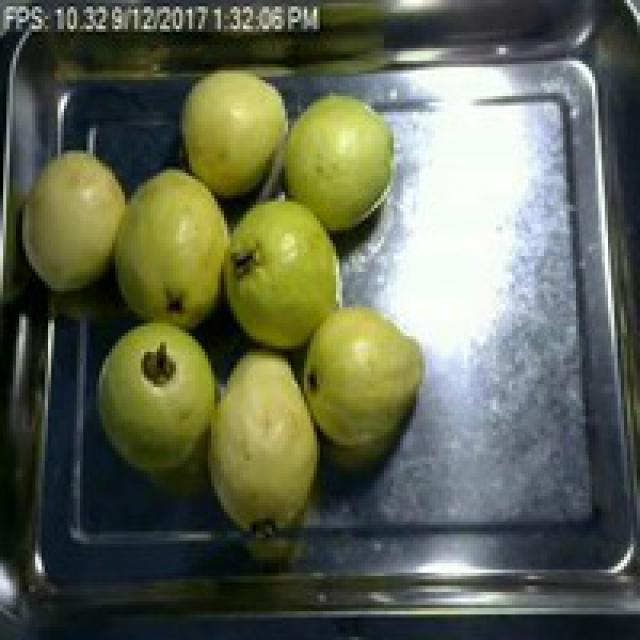Fruit: (192, 336, 336, 538), (288, 294, 438, 470), (266, 76, 410, 250), (224, 179, 355, 368), (86, 307, 228, 477), (106, 154, 230, 348), (7, 138, 138, 304), (170, 61, 304, 214)
